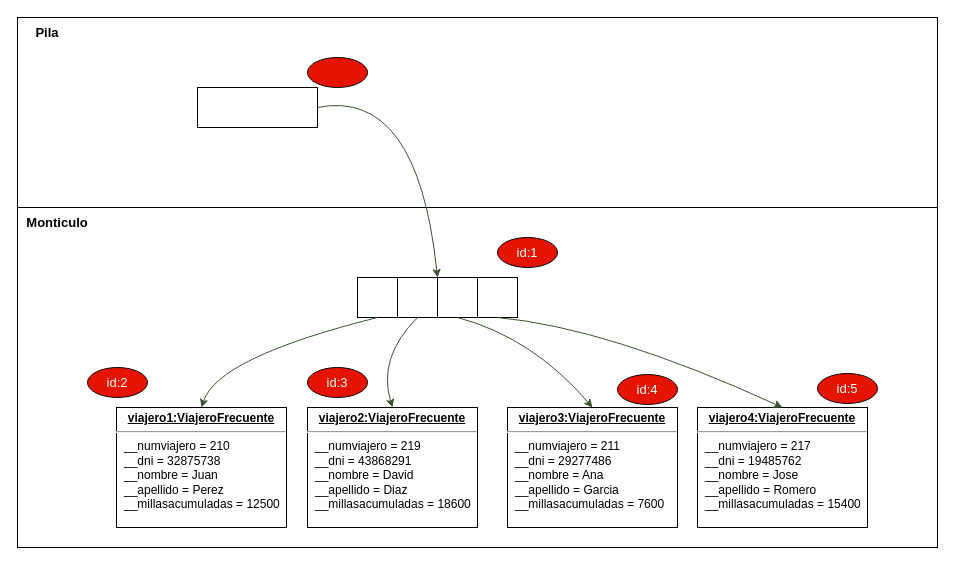
Image size: 955x565. Some labels were removed from this diagram. The shapes that lost their labels are listed below. From the top down, each one's centre as x and y in pixels, then its label:
At point 337,72: "id:0".
At point 257,107: "listaViajeros".
